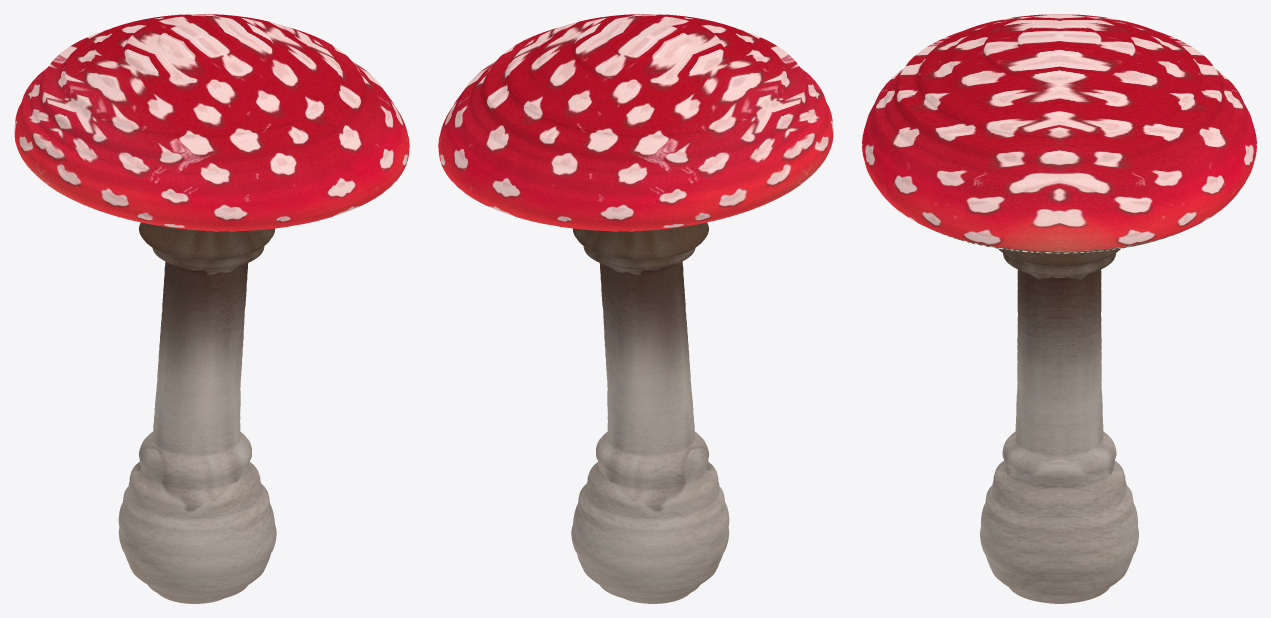
Rendered from muscaria.glb.
3 views of the same model, side by side, from view 1: azimuth 30°, elevation 25°; view 2: azimuth 150°, elevation 25°; view 3: azimuth 270°, elevation 25° (orthographic).
Parts seen in each view (by area): view 1: muscaria; view 2: muscaria; view 3: muscaria.
Boxes of the visible parts, x1=… form: muscaria: x1=14, y1=14, x2=409, y2=603; muscaria: x1=438, y1=14, x2=833, y2=603; muscaria: x1=862, y1=14, x2=1256, y2=603.
Size of the model in its own units: 0.6428 by 0.9971 by 0.6348.
Materials: 2 (2 with a texture image).
